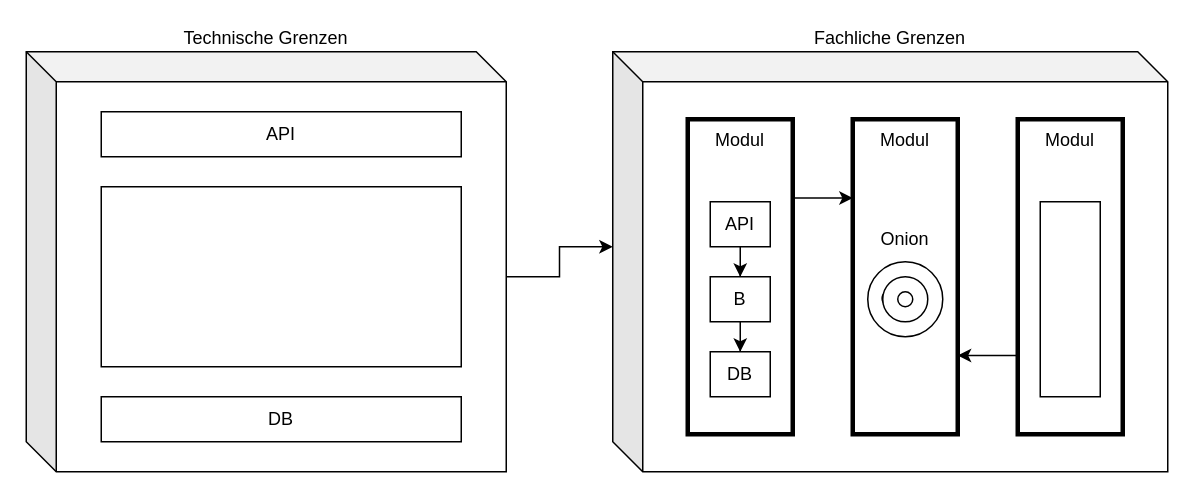
Some shapes in this 1194 by 498 pixel diagram are drawn without their labels. Each missing label, with the centre of its shape:
"Business" belongs at (x=280, y=276).
"S c r i p t" belongs at (x=1069, y=298).
